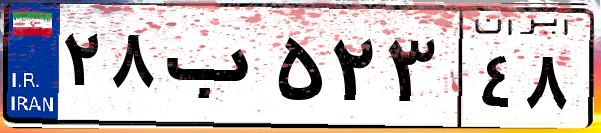2: (330, 28, 385, 110), (57, 26, 110, 100)
3: (385, 28, 445, 110)
4: (475, 38, 525, 113)
5: (270, 28, 330, 110)
8: (525, 38, 570, 115), (110, 28, 158, 98)
ب: (158, 20, 270, 120)
